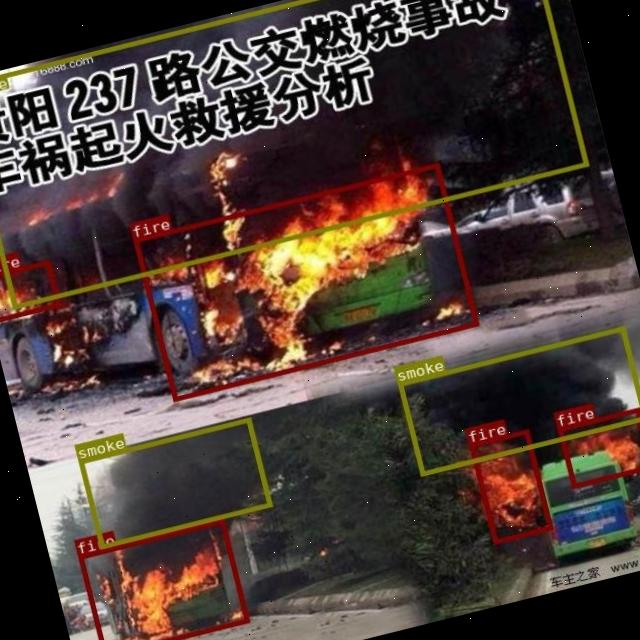fire: (132, 162, 478, 400), (77, 518, 247, 640), (468, 428, 551, 542), (556, 407, 640, 487), (0, 259, 59, 321)
smoke: (0, 0, 587, 308), (396, 325, 640, 475), (77, 416, 270, 548)
